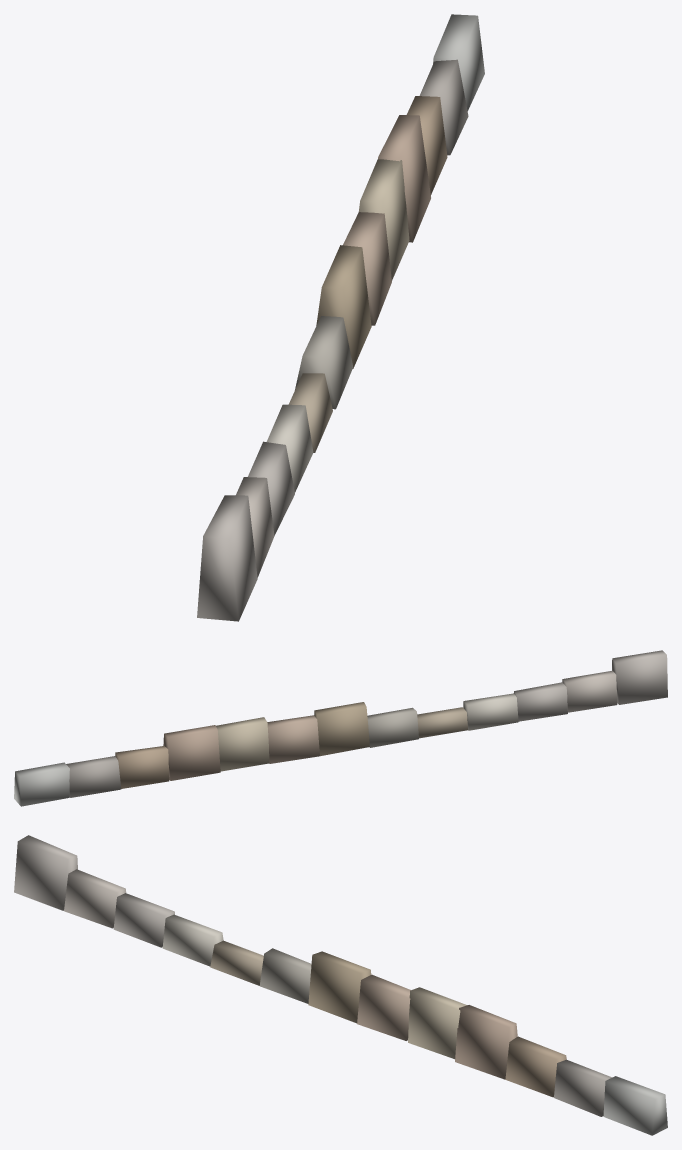
The model's file is farm_5_7_far.glb.
3 views of the same model, one above another, from view 1: azimuth 30°, elevation 25°; view 2: azimuth 150°, elevation 25°; view 3: azimuth 270°, elevation 25° (orthographic). The views are drawn at different scales.
Visible parts, largest first — view 1: geometry_0; view 2: geometry_0; view 3: geometry_0.
Part boxes in pixels (left/top/right/bottom): geometry_0: left=197, top=14, right=484, bottom=621; geometry_0: left=14, top=650, right=667, bottom=806; geometry_0: left=14, top=835, right=667, bottom=1135.
Bounding box in the file's own units: 13.92 × 1.77 × 16.22.
